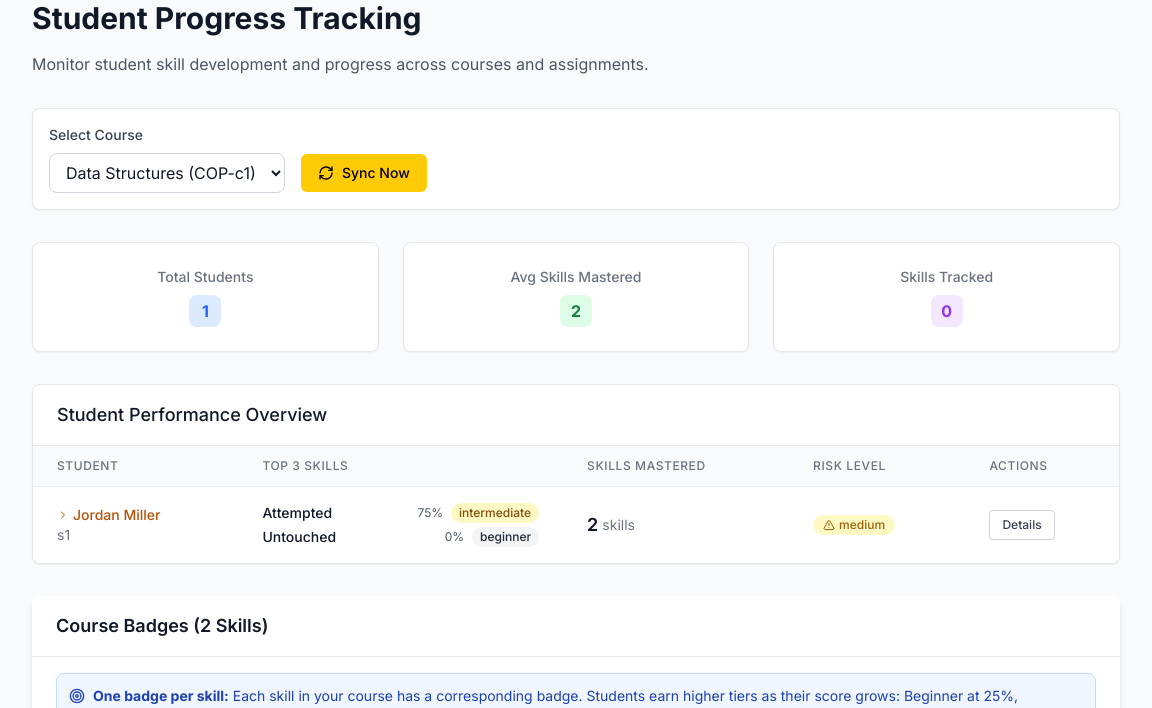
Test case: opening the Details modal shows the full skill breakdown, including a 0/0 accuracy guard
Expected: the button "Jordan Miller" is shown, [57,505,160,525]
Click the button with aria-label "Details for Jordan Miller" at point(1022, 525), box [990,510,1055,540]
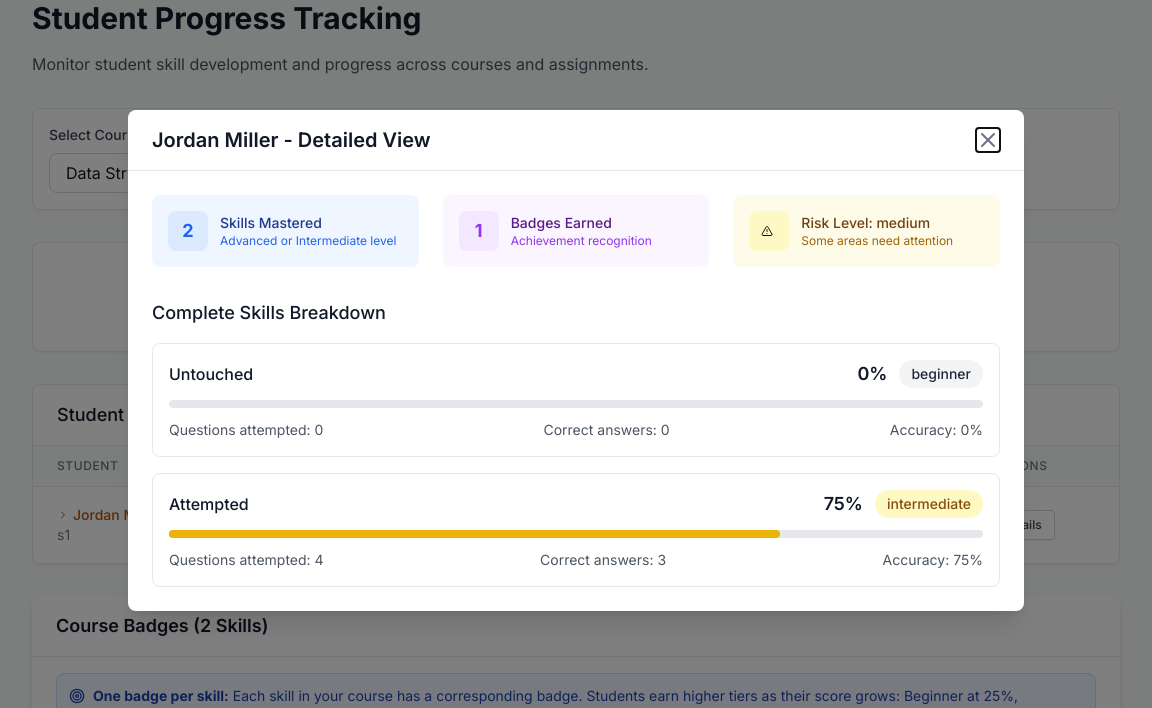
Result: the text "Untouched" shows "Accuracy: 0%" at [152,342,1000,456]
Result: the text "Attempted" shows "Accuracy: 75%" at [152,472,1000,586]
